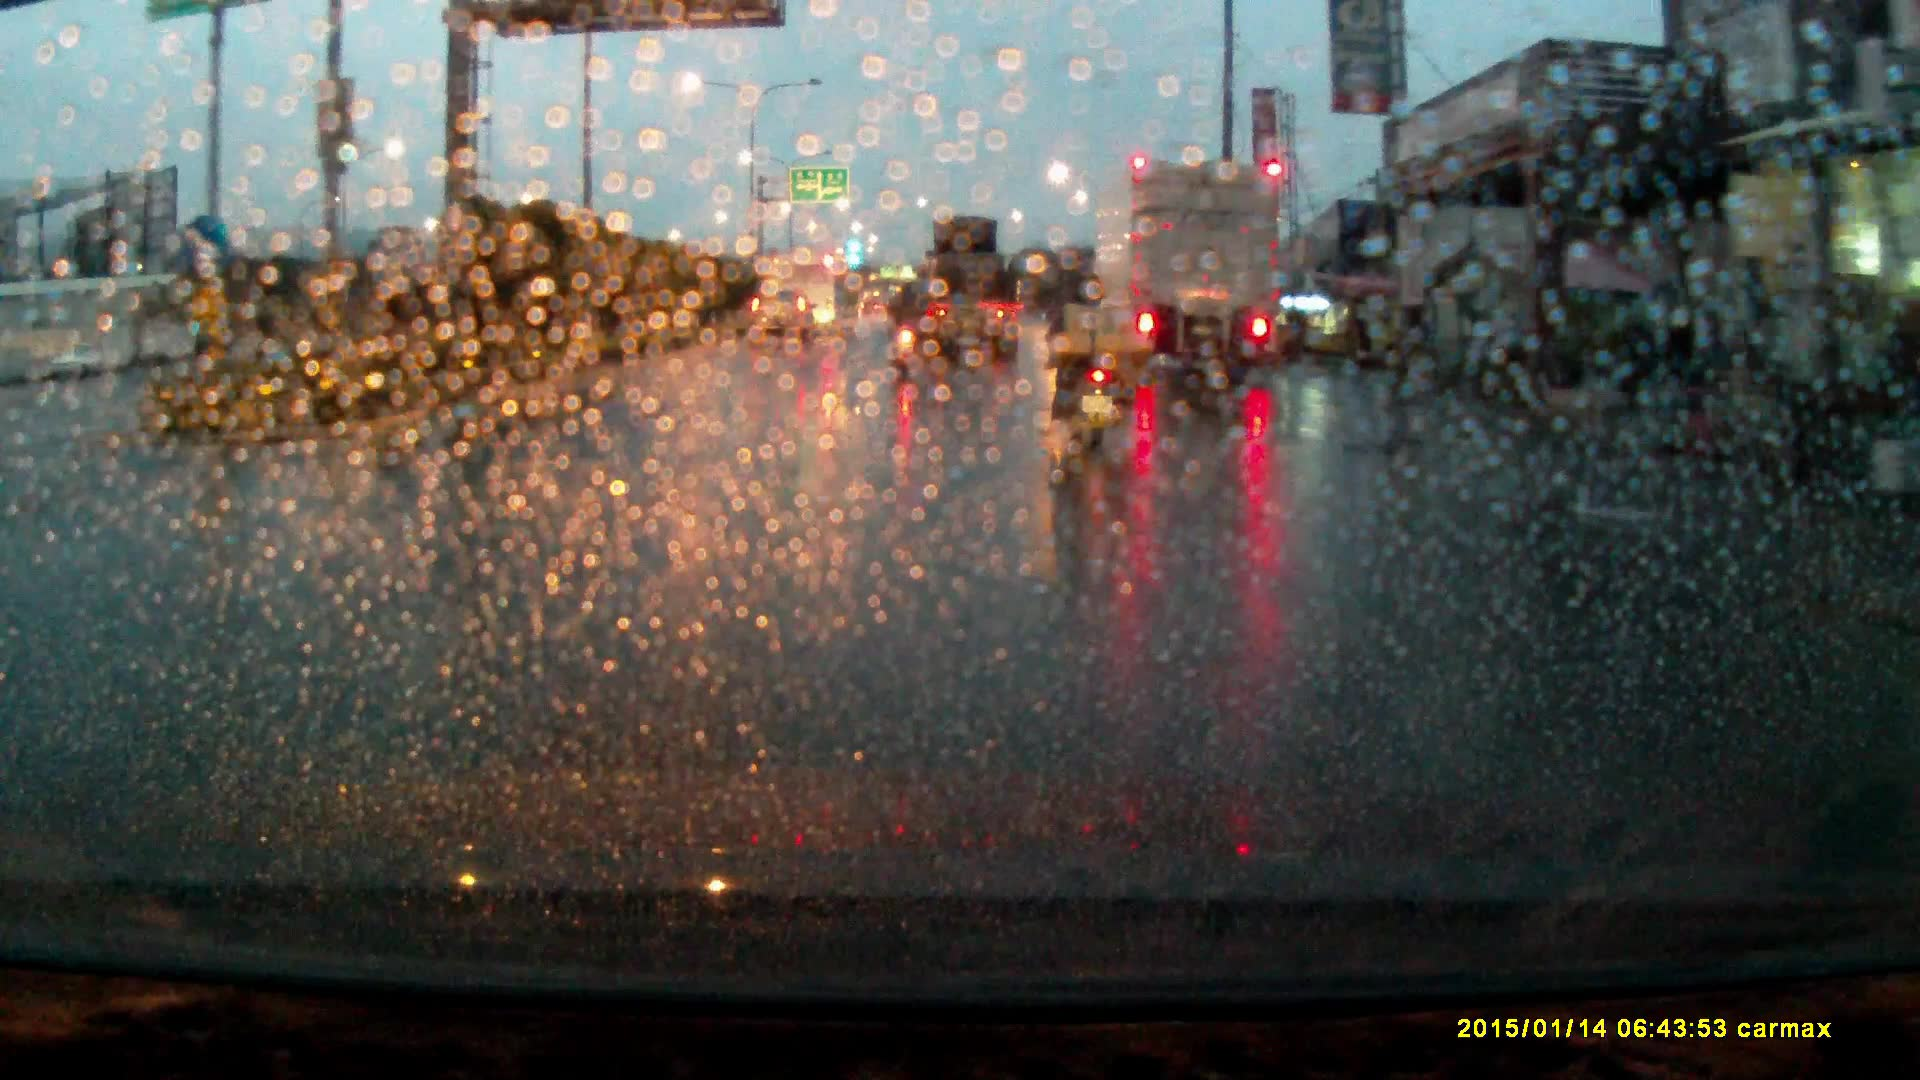rider: (1048, 257, 1133, 447), (891, 268, 928, 362)
vehicle: (1089, 151, 1289, 379), (909, 214, 1014, 362), (777, 244, 852, 327), (749, 285, 820, 351)
